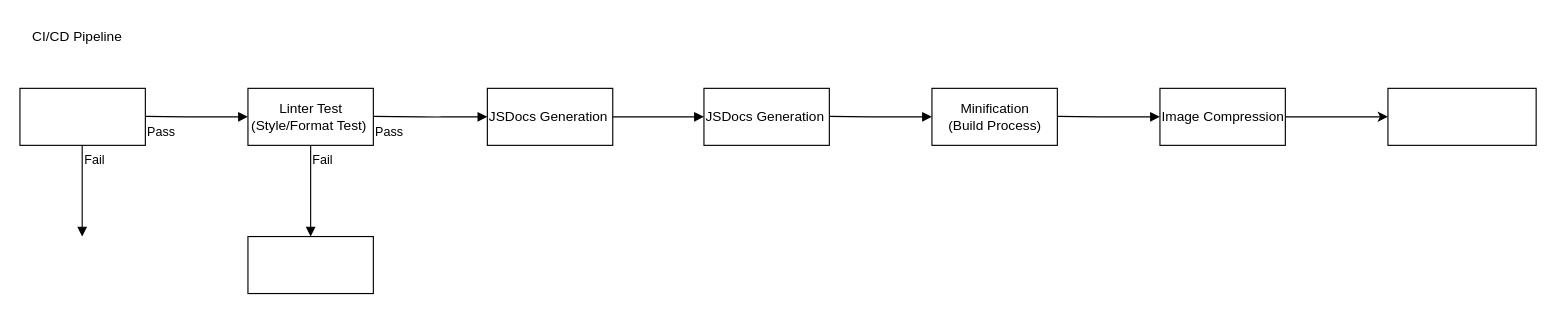
The diagram is 1556 pixels wide and 314 high, and some of its shapes have lost their labels. The shapes that lost their labels are listed below. From the top down, each one's box as (x1, y1, x2, y2) in pixels, then its label:
(19, 87, 145, 145): Git Push
(1387, 87, 1536, 145): Deployment (Push to Github Pages)
(247, 235, 373, 294): Autofix
